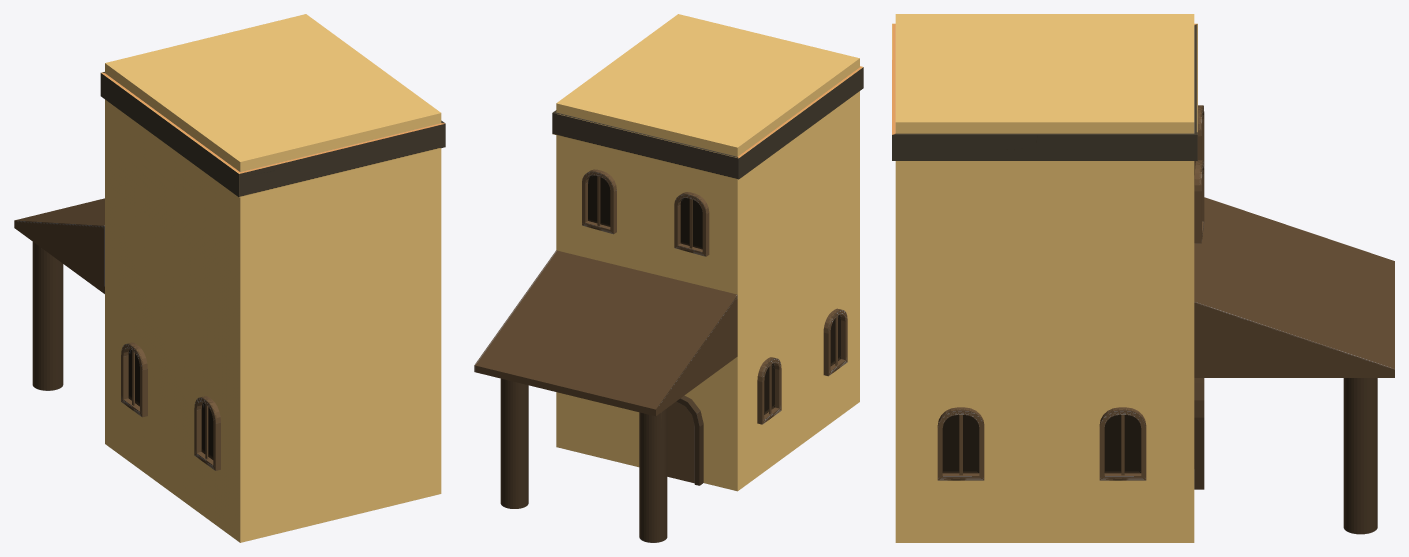
The model's file is GenericStructure.glb.
3 views of the same model, side by side, from view 1: azimuth 30°, elevation 25°; view 2: azimuth 150°, elevation 25°; view 3: azimuth 270°, elevation 25° (orthographic). The views are drawn at different scales.
Visible parts, largest first — view 1: Cube.001, Cube, Cylinder.001, Plane.003, Plane.004; view 2: Cube.001, Cube, Cylinder.001, Cylinder, Plane, Plane.002, Plane.001, Plane.003, Plane.004; view 3: Cube.001, Cube, Cylinder, Plane.005, Plane.006, Plane, Plane.001.
Part boxes in pixels (bbox=[...]): Cube.001: bbox=[100, 14, 445, 542]; Cube: bbox=[14, 198, 104, 293]; Cylinder.001: bbox=[32, 242, 63, 390]; Plane.003: bbox=[121, 342, 147, 417]; Plane.004: bbox=[194, 396, 220, 470]; Cube.001: bbox=[552, 14, 863, 491]; Cube: bbox=[474, 250, 737, 416]; Cylinder.001: bbox=[639, 408, 667, 542]; Cylinder: bbox=[500, 378, 528, 508]; Plane: bbox=[667, 395, 703, 485]; Plane.002: bbox=[674, 192, 709, 256]; Plane.001: bbox=[582, 169, 616, 234]; Plane.003: bbox=[757, 357, 781, 424]; Plane.004: bbox=[823, 308, 847, 376]; Cube.001: bbox=[892, 14, 1197, 542]; Cube: bbox=[1194, 197, 1394, 377]; Cylinder: bbox=[1343, 378, 1377, 534]; Plane.005: bbox=[937, 407, 984, 480]; Plane.006: bbox=[1099, 407, 1146, 480]; Plane: bbox=[1194, 378, 1204, 489]; Plane.001: bbox=[1194, 160, 1204, 243].
Bounding box in the file's own units: 3.79 × 6.49 × 7.03.
5 materials, 5 textured.
